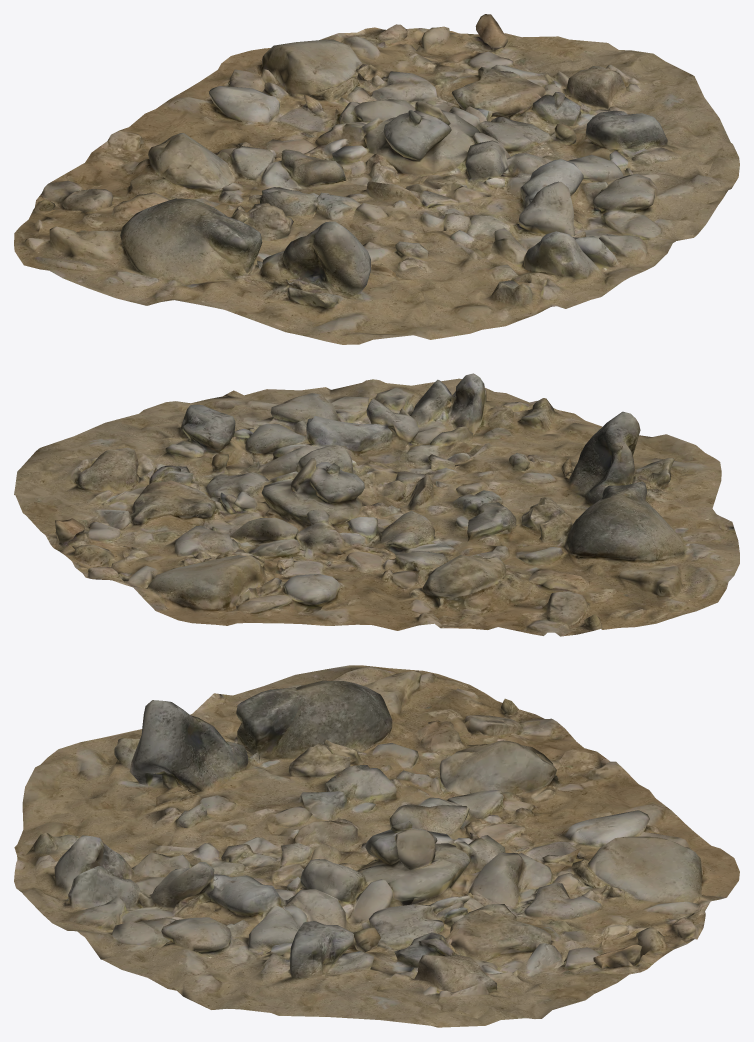
The model's file is assets__ph__sand_rocks_small_01.glb.
3 views of the same model, one above another, from view 1: azimuth 30°, elevation 25°; view 2: azimuth 150°, elevation 25°; view 3: azimuth 270°, elevation 25° (orthographic). The views are drawn at different scales.
Visible parts, largest first — view 1: sand_rocks_small_01_LOD0; view 2: sand_rocks_small_01_LOD0; view 3: sand_rocks_small_01_LOD0.
Boxes of the visible parts, box(x1,y1,x2,y2) form: sand_rocks_small_01_LOD0: box(14, 14, 739, 344); sand_rocks_small_01_LOD0: box(14, 373, 739, 636); sand_rocks_small_01_LOD0: box(14, 665, 739, 1027).
Size of the model in its own units: 4.63 by 0.5331 by 3.88.
Materials: 1 (1 with a texture image).
